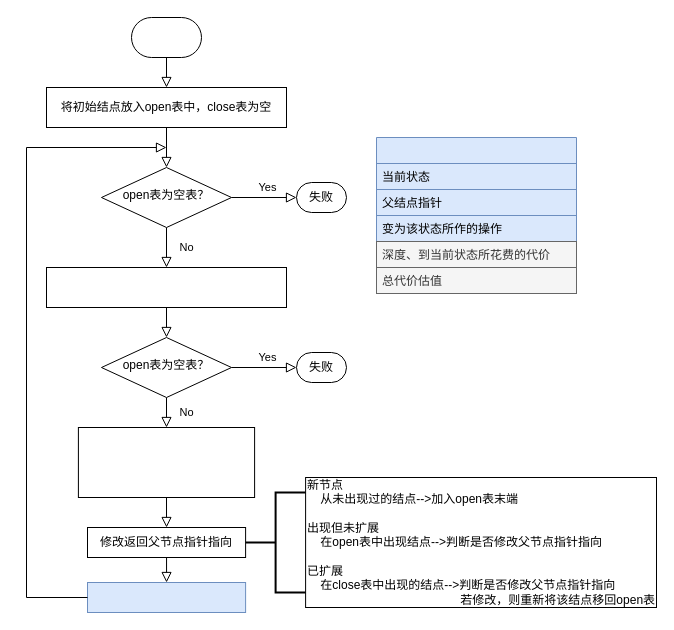
This 674x630 diagram has some shape labels left out. Each missing label, with the box of its shape:
将刚才从open移入close的结点 生成的后序节点集 放入open表的末端 提供返回父节点的指针: (77, 426, 255, 498)
将第一个结点从open表移到close表中: (46, 266, 286, 308)
开始: (130, 16, 202, 58)
每个结点的数据结构: (376, 136, 576, 294)
重排open表: (86, 582, 246, 612)
